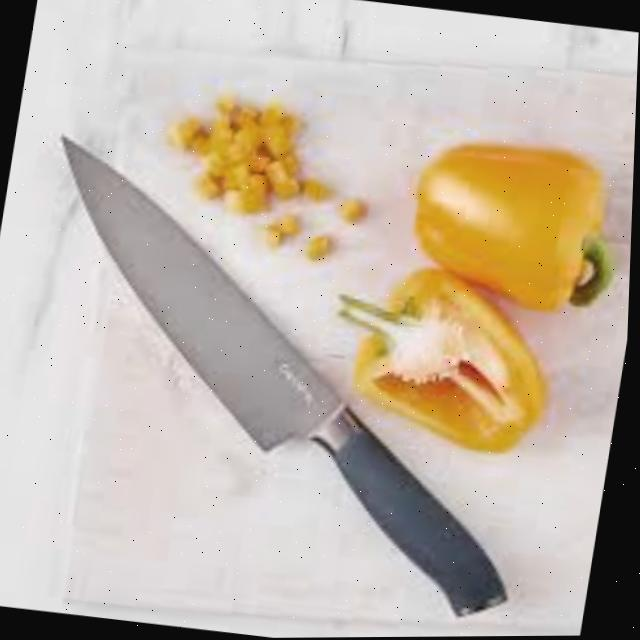knife: (0, 127, 575, 624)
